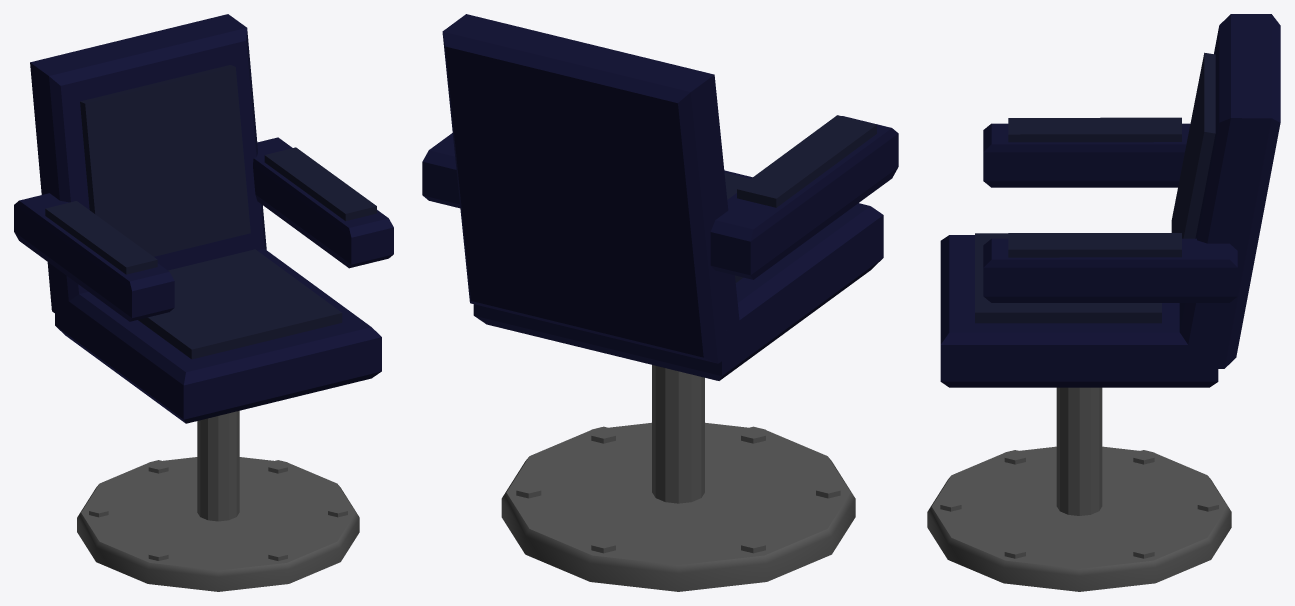
File: chair.fbx
3 renders of one model, left to right at view 1: azimuth 30°, elevation 25°; view 2: azimuth 150°, elevation 25°; view 3: azimuth 270°, elevation 25°, orthographic. The views are drawn at different scales.
Parts seen in each view (by area): view 1: 3; view 2: 3; view 3: 3.
Part boxes in pixels (x1,y1,x2,y2): 3: [14, 14, 393, 591]; 3: [422, 14, 898, 591]; 3: [927, 14, 1280, 591].
Bounding box in the file's own units: 6.95 × 7.55 × 10.89.
